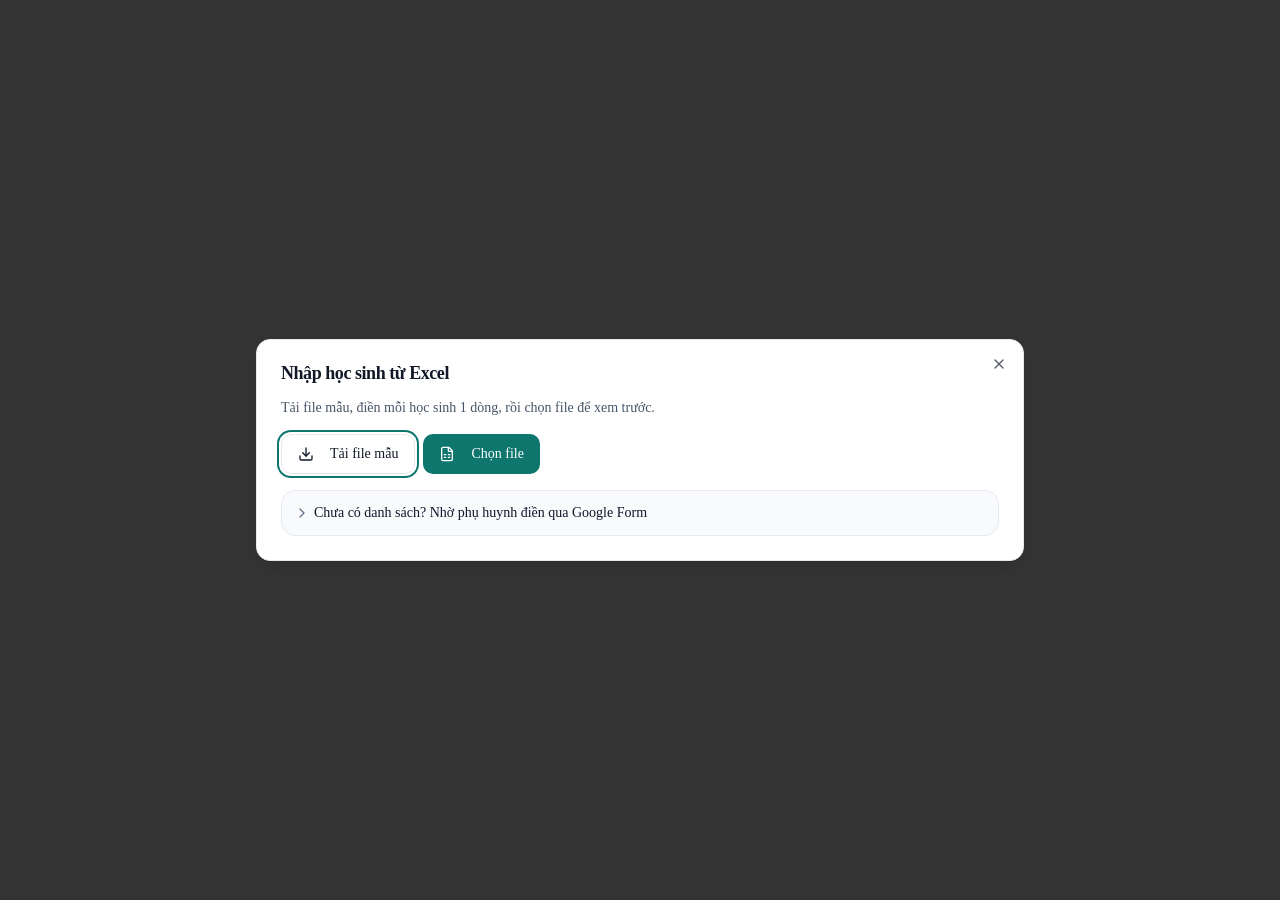
Scenario: ImportStudentsDialog › khối Google Form: mặc định gập, mở ra có nút forms.new (tab mới) + 5 câu hỏi + link hướng dẫn
The image size is (1280, 900).
Click the heading "Chưa có danh sách? Nhờ phụ huynh điền qua Google Form" at {"x": 470, "y": 513}, box x1=294 y1=505 x2=647 y2=521
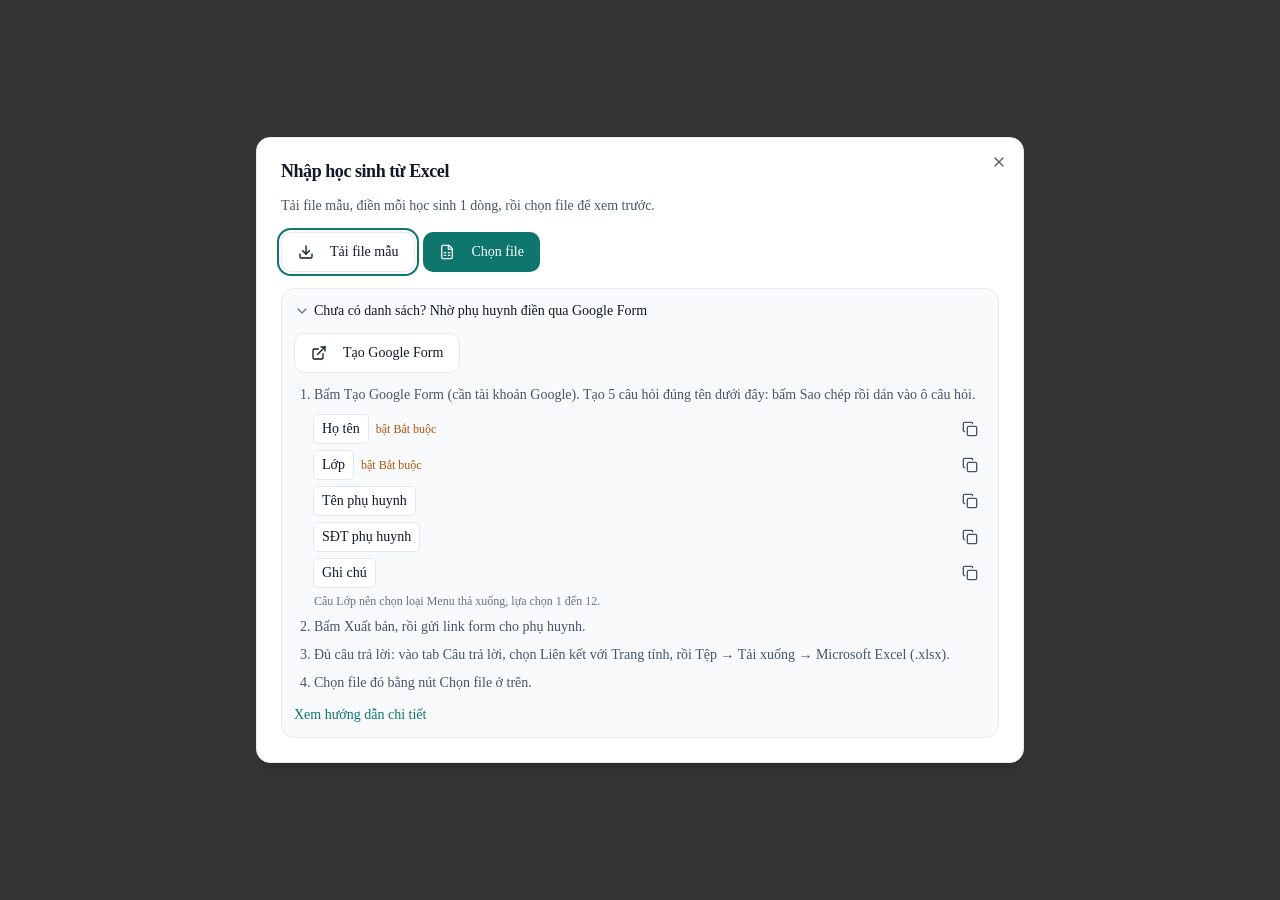
Expected: the element with test id "google-form-question" does not show "bật Bắt buộc"
Expected: the list item with test id "google-form-question" shows "bật Bắt buộc", x1=376 y1=422 x2=436 y2=436
